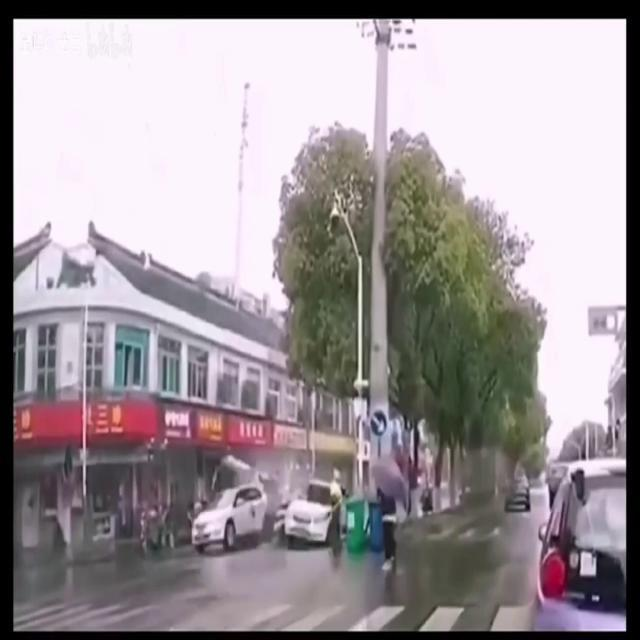accident: (190, 460, 342, 556)
